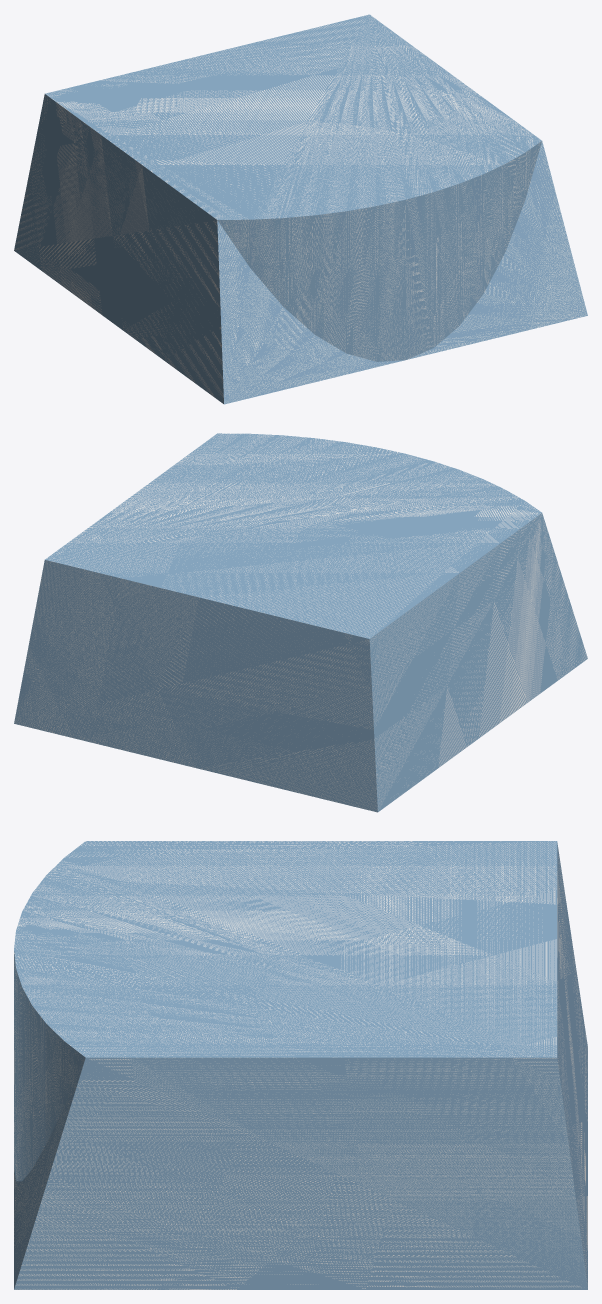
File: original-11.obj
The picture shows the model from 3 angles, top to bottom: view 1: azimuth 30°, elevation 25°; view 2: azimuth 150°, elevation 25°; view 3: azimuth 270°, elevation 25°; orthographic projection. The views are drawn at different scales.
Visible parts, largest first — view 1: Gray_Single_Keycap8/Gray_Single_Keycap/mesh8/mesh8-geometry#mesh; view 2: Gray_Single_Keycap8/Gray_Single_Keycap/mesh8/mesh8-geometry#mesh; view 3: Gray_Single_Keycap8/Gray_Single_Keycap/mesh8/mesh8-geometry#mesh.
Part boxes in pixels (left/top/right/bottom): Gray_Single_Keycap8/Gray_Single_Keycap/mesh8/mesh8-geometry#mesh: left=14, top=14, right=587, bottom=404; Gray_Single_Keycap8/Gray_Single_Keycap/mesh8/mesh8-geometry#mesh: left=14, top=433, right=587, bottom=812; Gray_Single_Keycap8/Gray_Single_Keycap/mesh8/mesh8-geometry#mesh: left=14, top=841, right=587, bottom=1289.
Size of the model in its own units: 0.0977 by 0.0412 by 0.0977.
